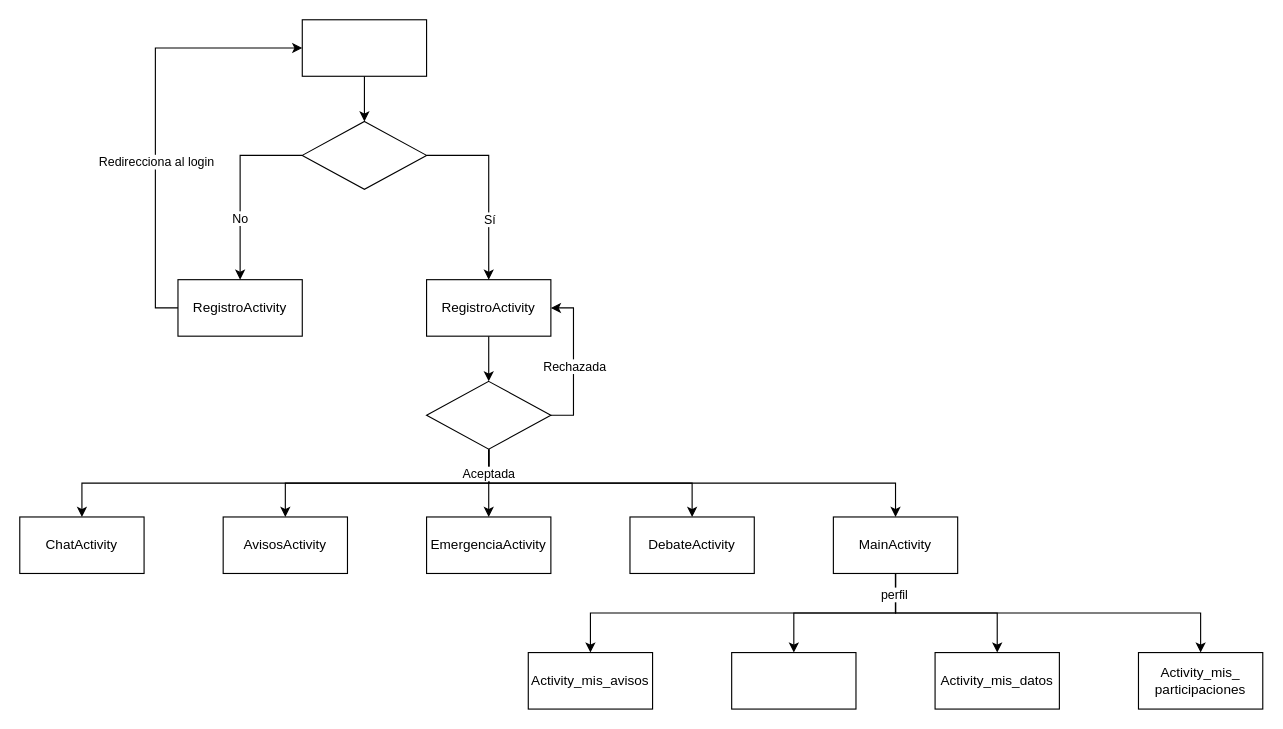
Some shapes in this 1283 by 729 pixel diagram are drawn without their labels. Here are the shapes that lost their labels. From the top down, the centre of each, then its label:
At point 364,47: "LoginActivity".
At point 364,154: "Cuenta habilitada".
At point 488,414: "Valida credencial".
At point 793,680: "Activity_ configuracion".
